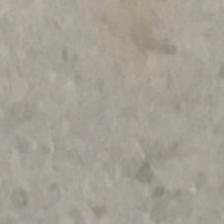Non_Crack: (27, 21, 212, 205)
